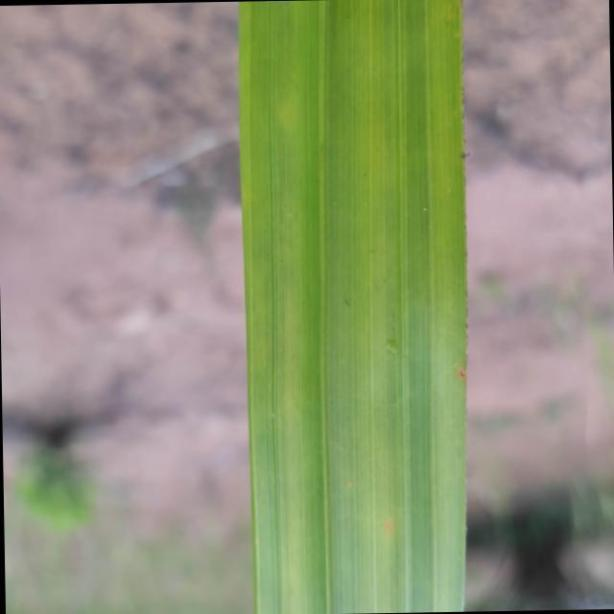nitrogen: (238, 0, 467, 614)
